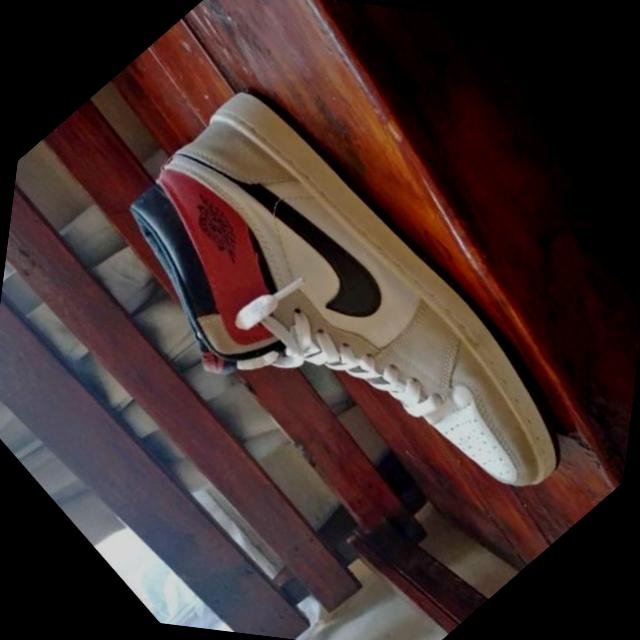nike_fake_jordan: (40, 44, 638, 626)
